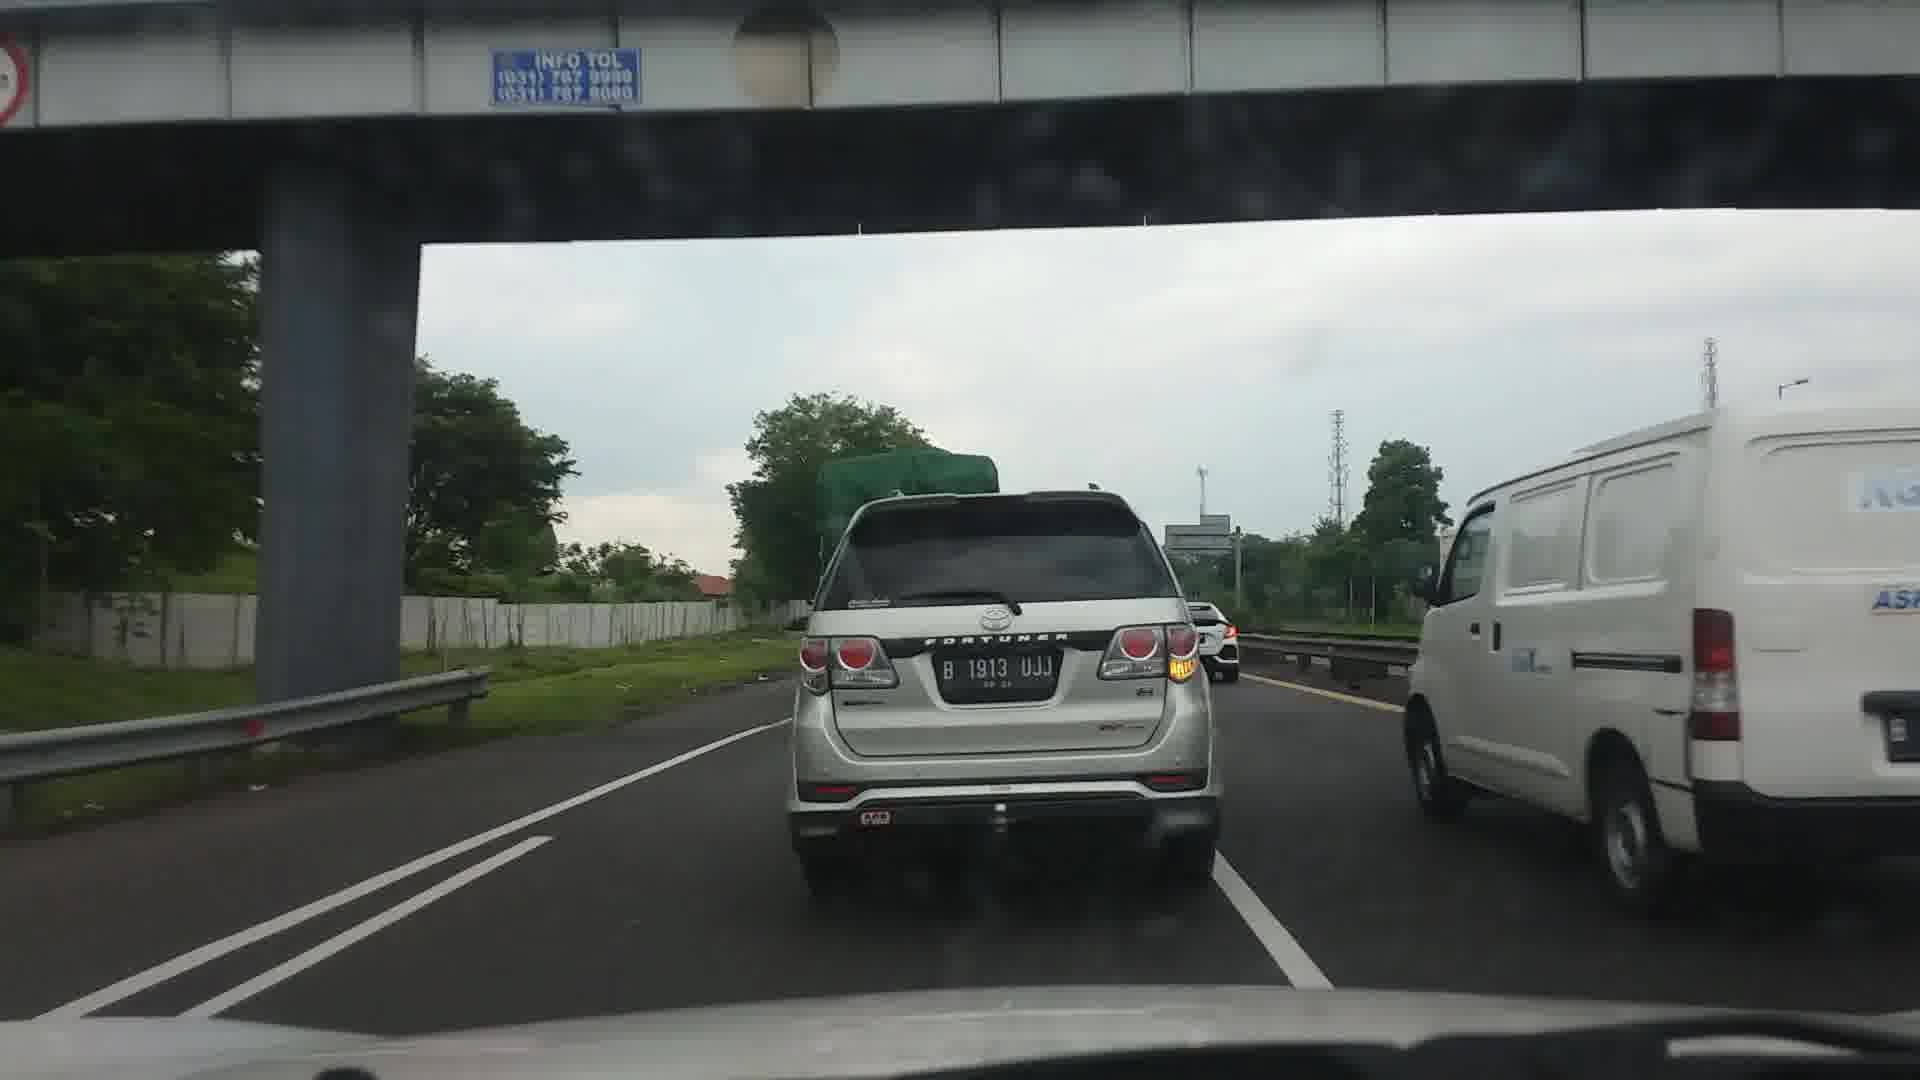plate_positive: (939, 651, 1055, 690)
